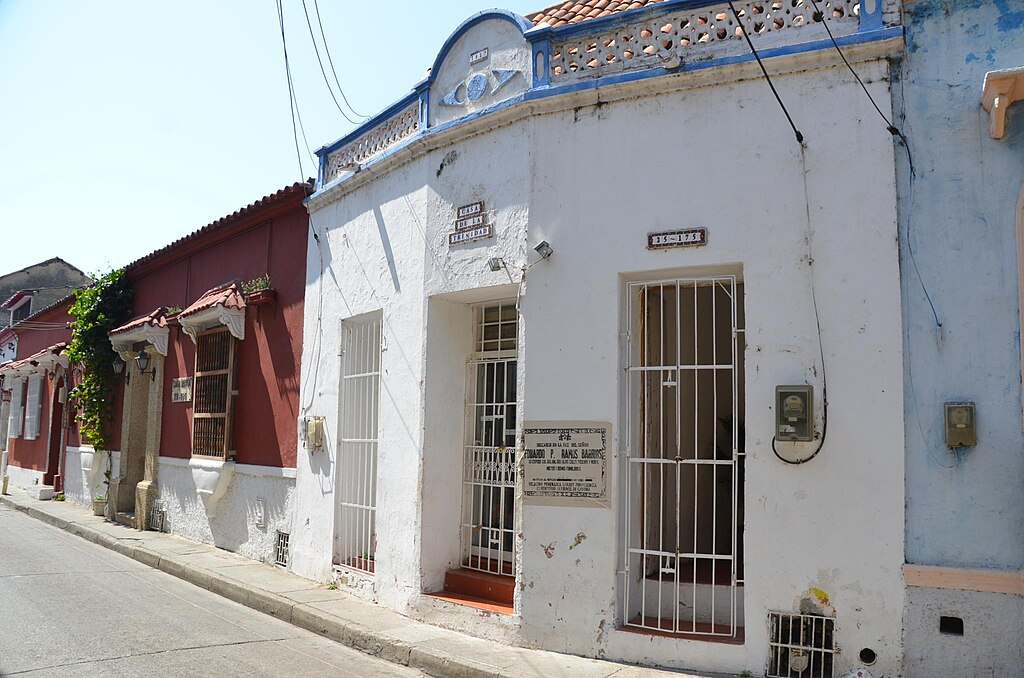House: (307, 17, 902, 673), (2, 190, 299, 570)
